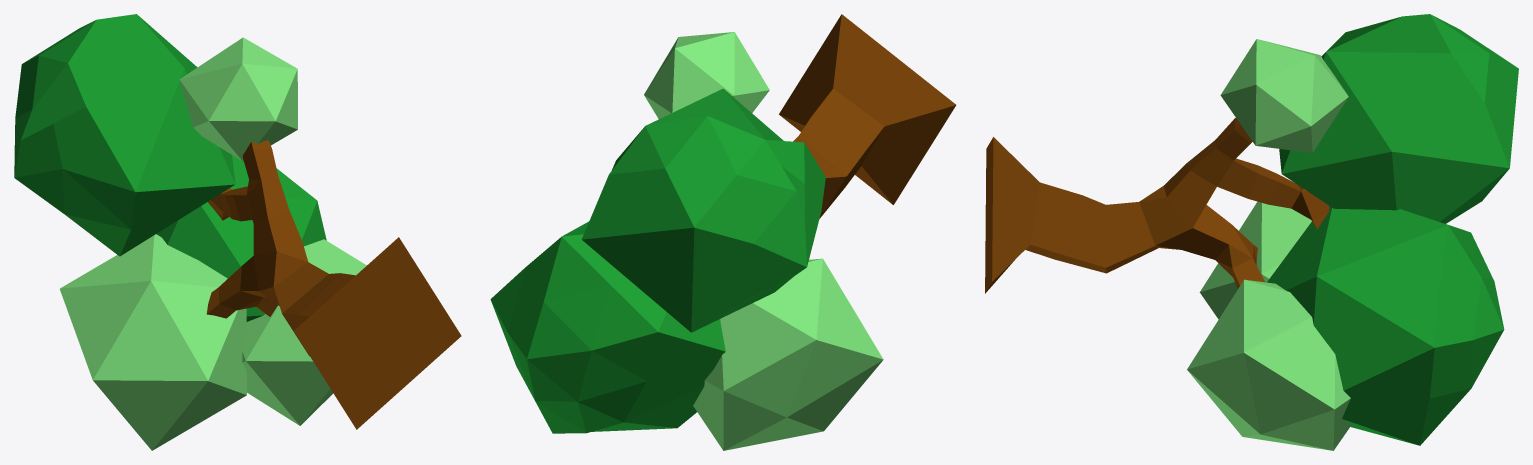
Rendered from ENVI_Pohon_Besar.fbx.
3 renders of one model, left to right at view 1: azimuth 30°, elevation 25°; view 2: azimuth 150°, elevation 25°; view 3: azimuth 270°, elevation 25°, orthographic. The views are drawn at different scales.
Visible parts, largest first — view 1: Pohon Besar; view 2: Pohon Besar; view 3: Pohon Besar.
Boxes of the visible parts, x1,y1,x2,y2 form: Pohon Besar: [14, 14, 461, 450]; Pohon Besar: [490, 14, 956, 450]; Pohon Besar: [985, 14, 1518, 450].
Size of the model in its own units: 874 by 1020 by 1324.
